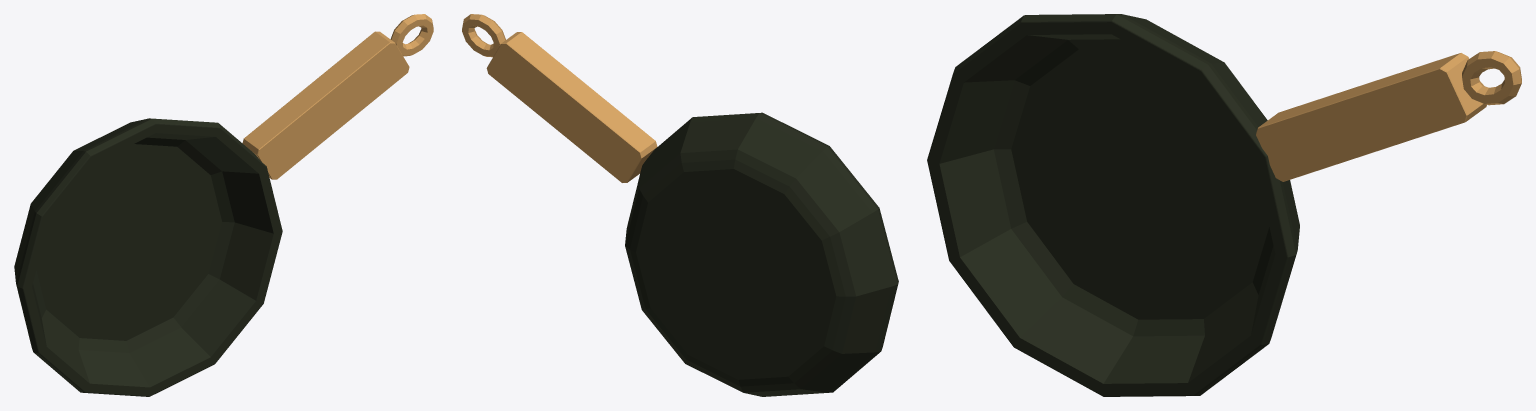
The model's file is frying_pan.glb.
3 views of the same model, side by side, from view 1: azimuth 30°, elevation 25°; view 2: azimuth 150°, elevation 25°; view 3: azimuth 330°, elevation 25° (orthographic). The views are drawn at different scales.
Visible parts, largest first — view 1: frying_pan; view 2: frying_pan; view 3: frying_pan.
Part boxes in pixels (x1=…): frying_pan: x1=14, y1=14, x2=433, y2=396; frying_pan: x1=462, y1=14, x2=898, y2=396; frying_pan: x1=927, y1=14, x2=1521, y2=396.
Bounding box in the file's own units: 0.279 × 0.197 × 0.034.
